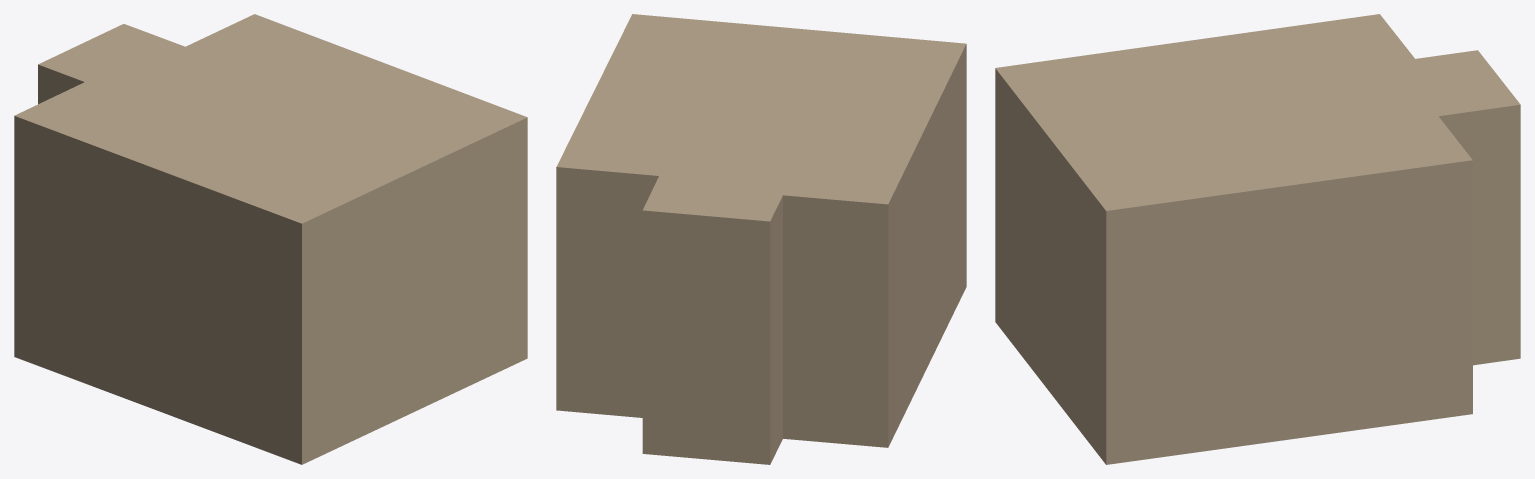
Rendered from bld_107638976.dae.
3 views of the same model, side by side, from view 1: azimuth 30°, elevation 25°; view 2: azimuth 150°, elevation 25°; view 3: azimuth 270°, elevation 25° (orthographic). The views are drawn at different scales.
Visible parts, largest first — view 1: bld_107638976; view 2: bld_107638976; view 3: bld_107638976.
Part boxes in pixels (<box>): bld_107638976: <box>14,14,527,464</box>; bld_107638976: <box>556,14,966,464</box>; bld_107638976: <box>995,14,1520,464</box>.
Size of the model in its own units: 13.31 by 15 by 8.
